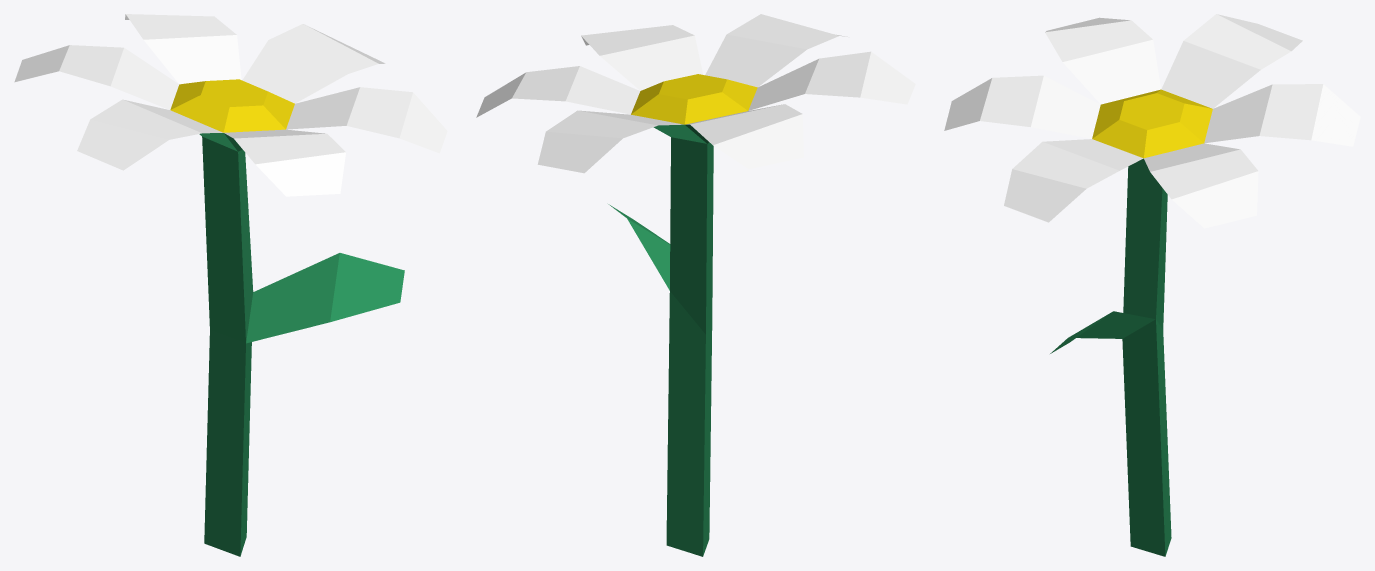
The model's file is flower.glb.
The picture shows the model from 3 angles, left to right: view 1: azimuth 30°, elevation 25°; view 2: azimuth 150°, elevation 25°; view 3: azimuth 270°, elevation 25°; orthographic projection. The views are drawn at different scales.
Parts seen in each view (by area): view 1: Circle.006_Circle.007; view 2: Circle.006_Circle.007; view 3: Circle.006_Circle.007.
Part boxes in pixels (x1,y1,x2,y2): Circle.006_Circle.007: [14, 14, 447, 556]; Circle.006_Circle.007: [476, 14, 915, 556]; Circle.006_Circle.007: [944, 14, 1360, 556].
Bounding box in the file's own units: 26.35 × 33.67 × 27.14.
1 material, 1 textured.
